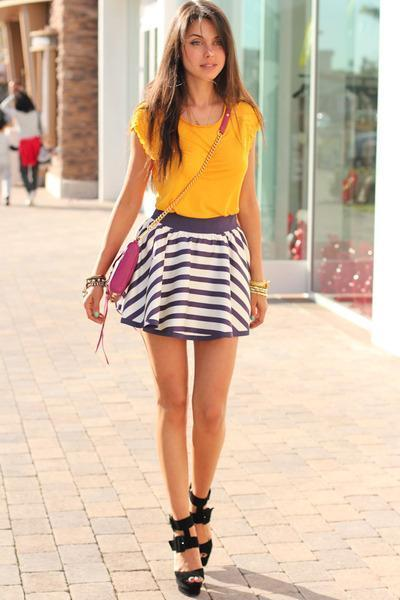bag: (109, 235, 155, 296)
shirt: (128, 102, 261, 217)
shoe: (169, 492, 212, 565)
skirt: (121, 212, 253, 360)
